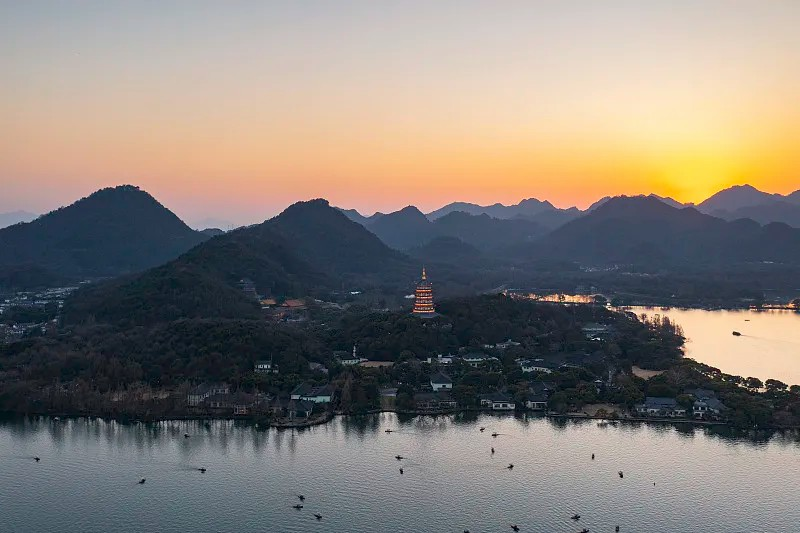Leifeng: (411, 263, 435, 316)
